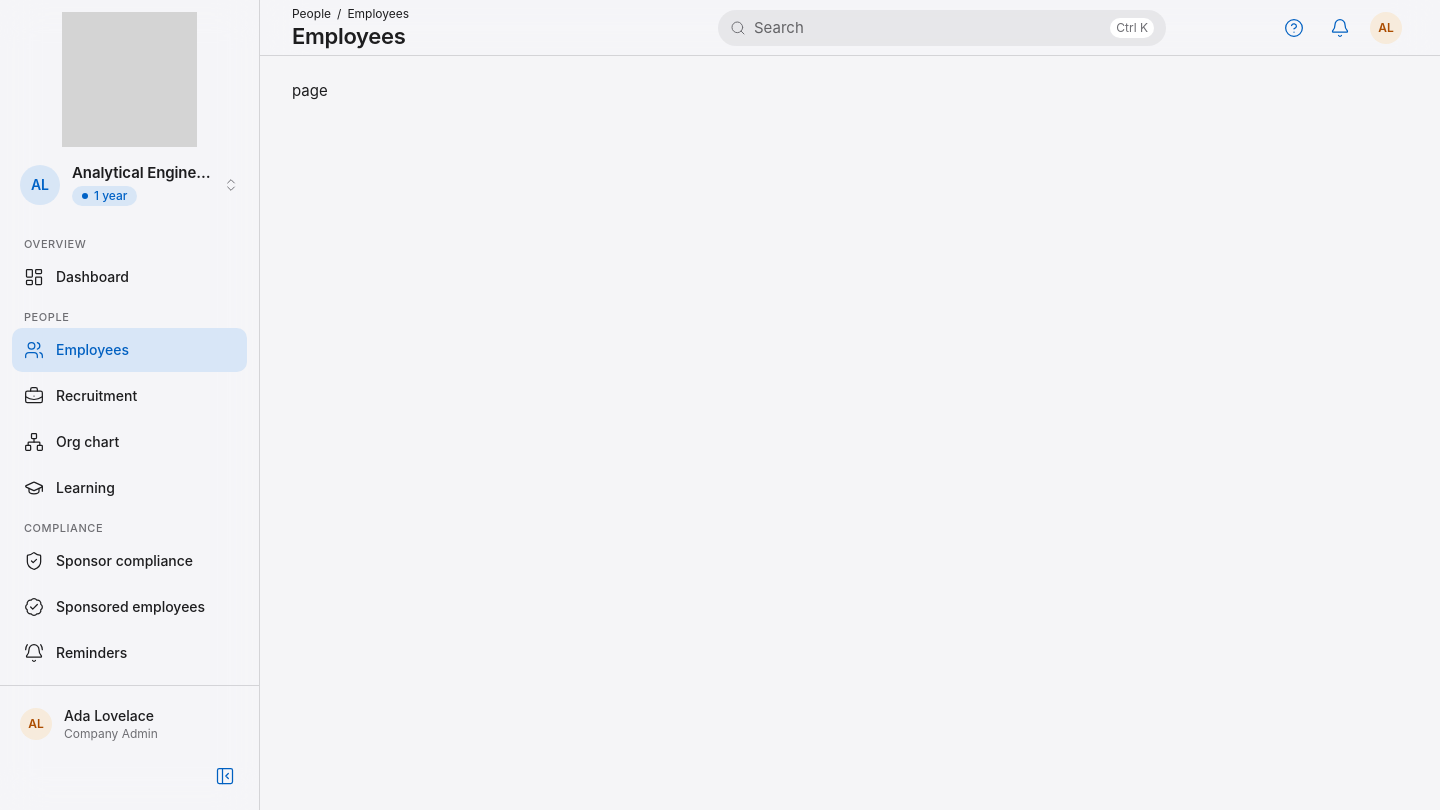
Test: the toolbar's controls › the account menu shows who you are, goes to your profile, and changes the theme
Later steps or results of the test are not shown.
Click the button named "Account menu" at (1386, 28), box x1=1364 y1=6 x2=1408 y2=50
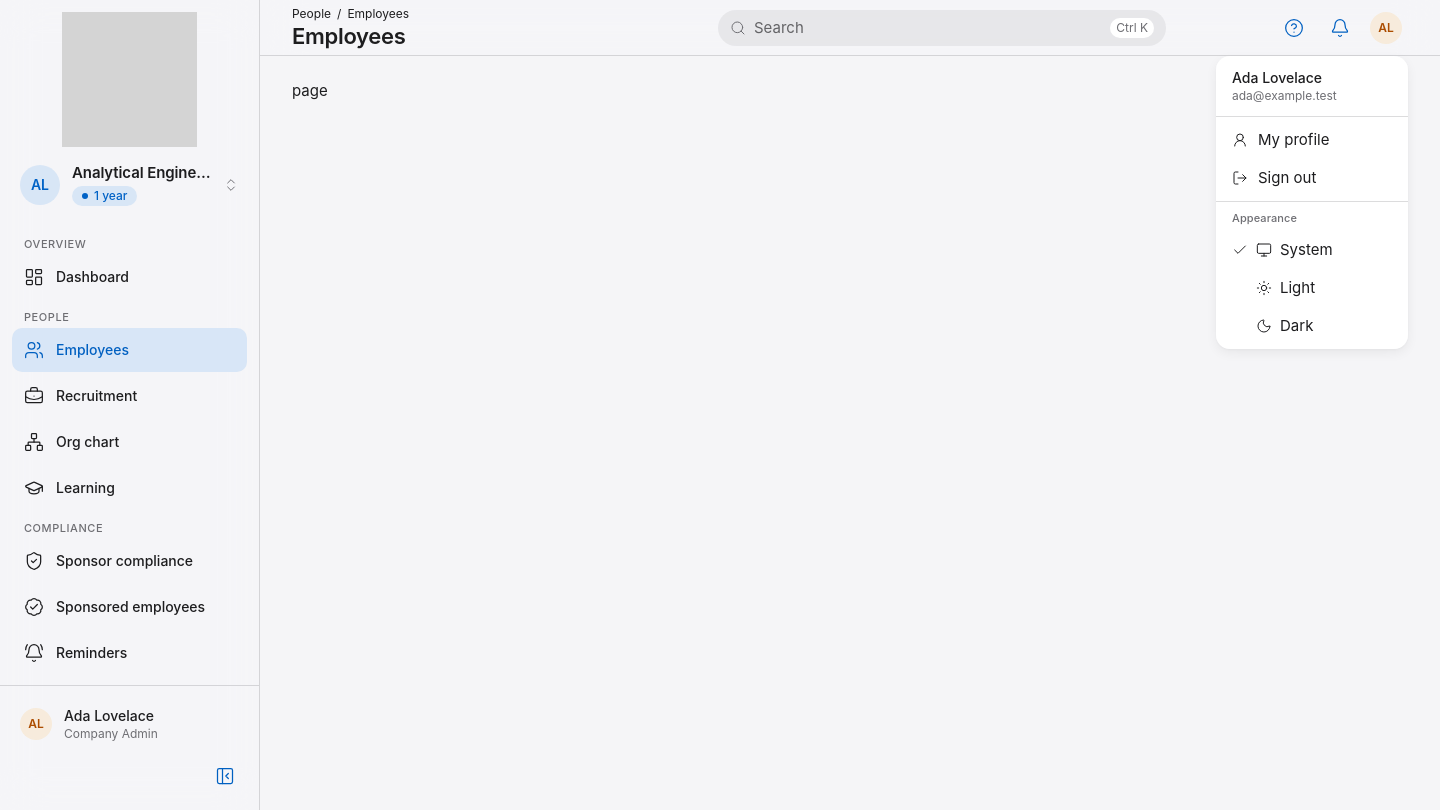
Expected: the text "ada@example.test" is shown, x1=1232 y1=88 x2=1337 y2=103
